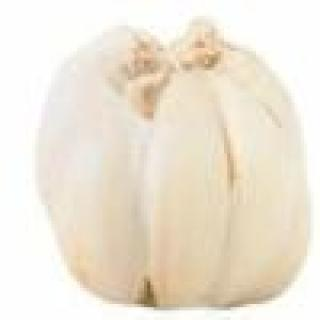Bawang Putih: (36, 24, 315, 309)
